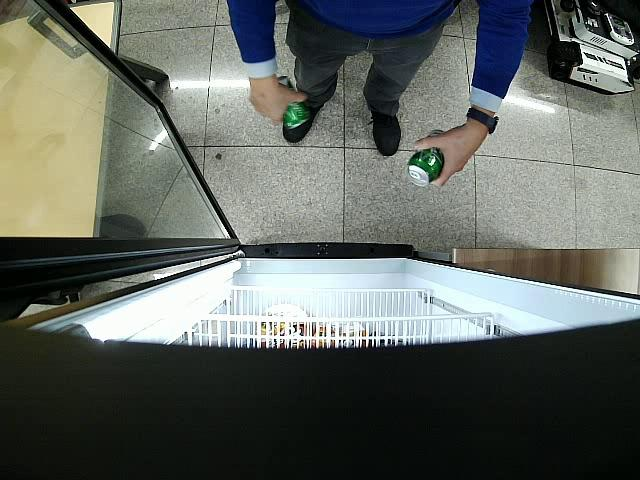00_hand: (415, 121, 486, 188), (248, 81, 308, 126)
12_chilsungCider: (407, 130, 444, 187), (277, 76, 310, 128)
